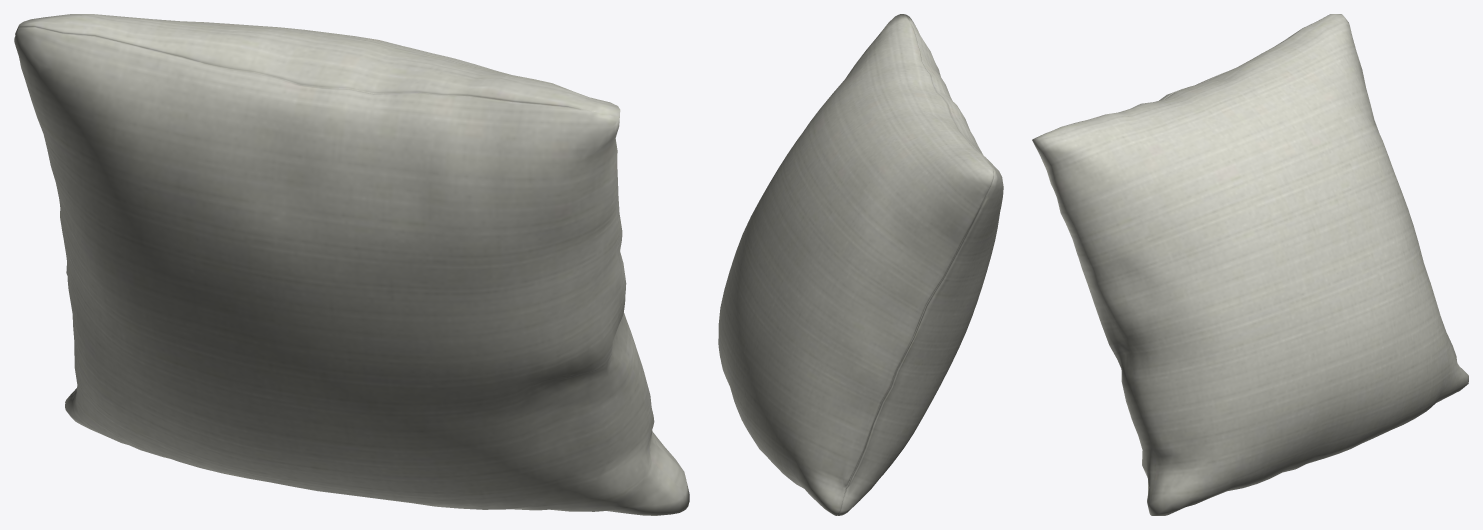
The model's file is MeridaDaybed02_Pillow.glb.
3 views of the same model, side by side, from view 1: azimuth 30°, elevation 25°; view 2: azimuth 150°, elevation 25°; view 3: azimuth 270°, elevation 25° (orthographic). The views are drawn at different scales.
Parts seen in each view (by area): view 1: merida-daybed-cushion01-fabric.001; view 2: merida-daybed-cushion01-fabric.001; view 3: merida-daybed-cushion01-fabric.001.
Boxes of the visible parts, x1,y1,x2,y2 form: merida-daybed-cushion01-fabric.001: (14, 14, 689, 515); merida-daybed-cushion01-fabric.001: (718, 14, 1003, 515); merida-daybed-cushion01-fabric.001: (1032, 14, 1468, 515).
Size of the model in its own units: 0.3886 by 0.3571 by 0.4142.
Materials: 1 (1 with a texture image).
